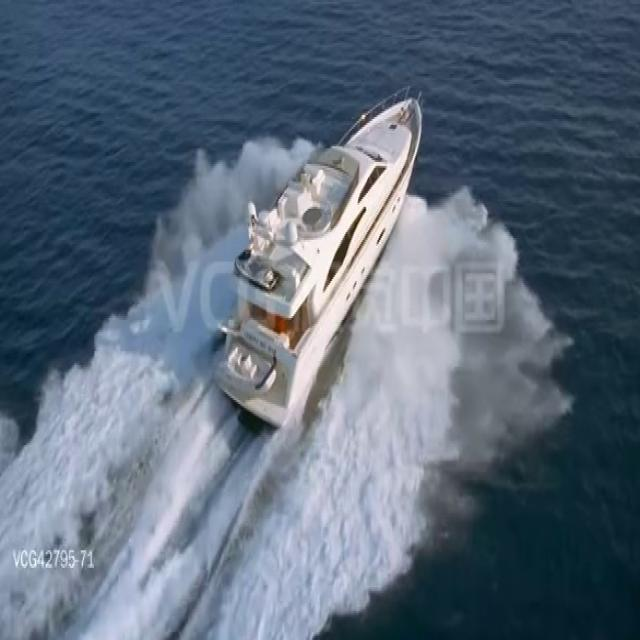houseboat: (207, 73, 427, 424)
